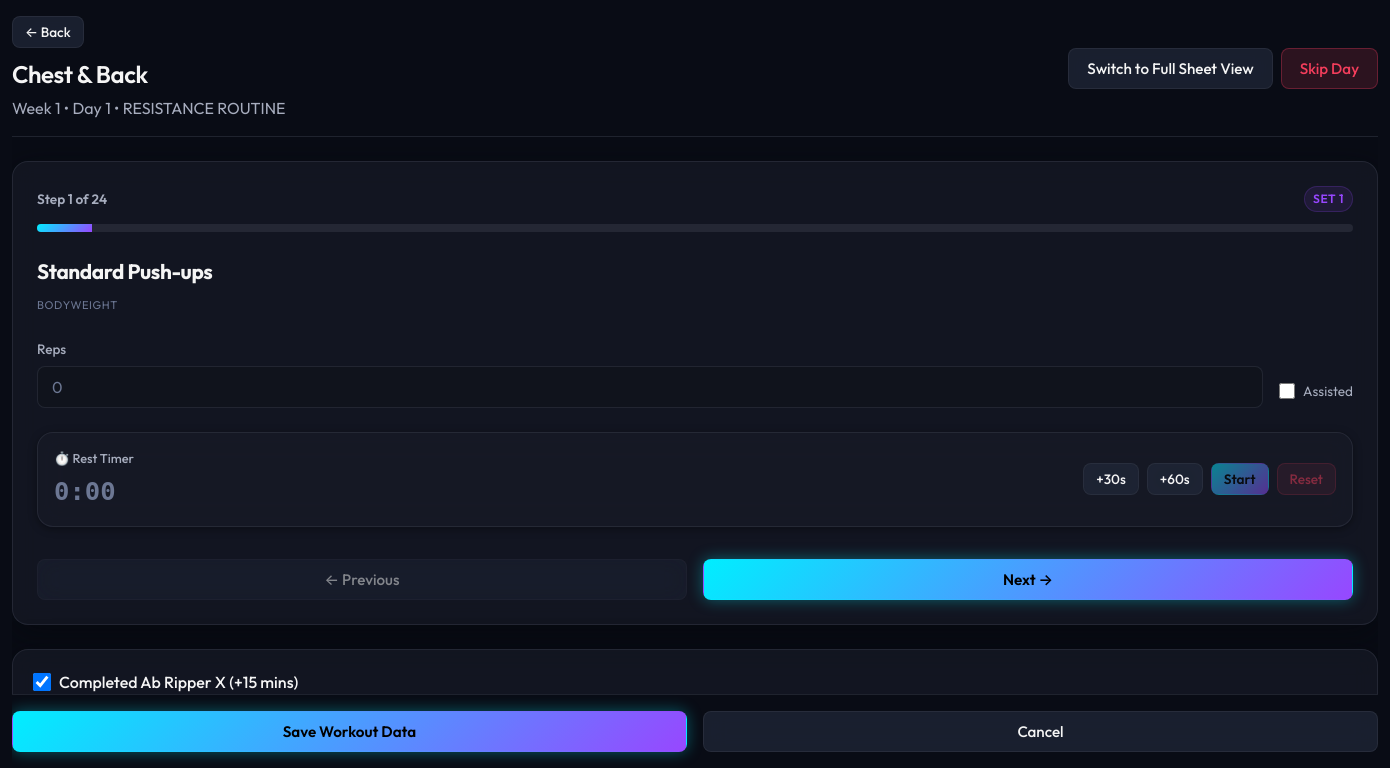
Test: WorkoutSession Component View Mode Defaults › should toggle view mode for resistance workout
The width and height of the screenshot is (1390, 768).
Switch to sheet
Click the button "Switch to Full Sheet View".
click(1171, 68)  # box x1=1068 y1=48 x2=1273 y2=88
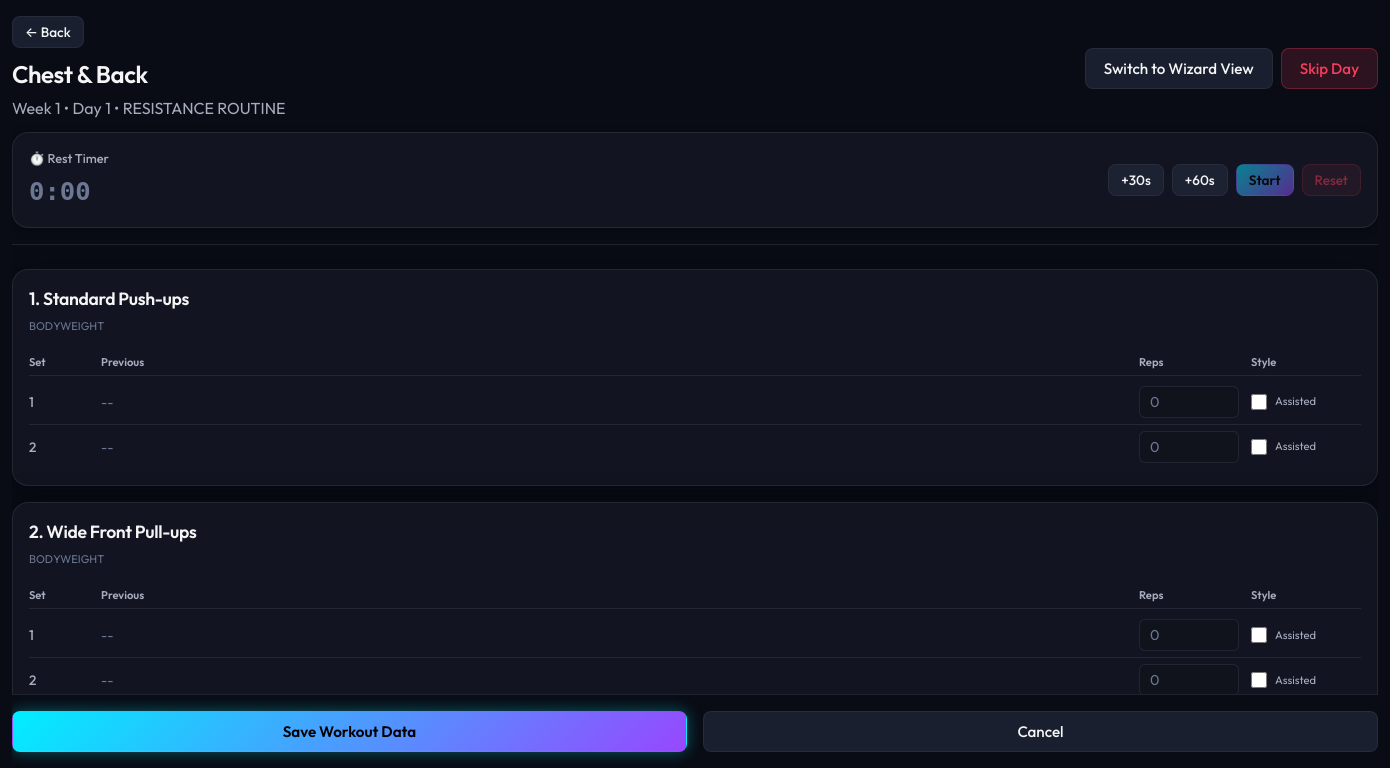
expect the button "Switch to Wizard View" is shown: met
Switch back to wizard
Click the button "Switch to Wizard View".
click(1179, 68)  # box x1=1085 y1=48 x2=1273 y2=88
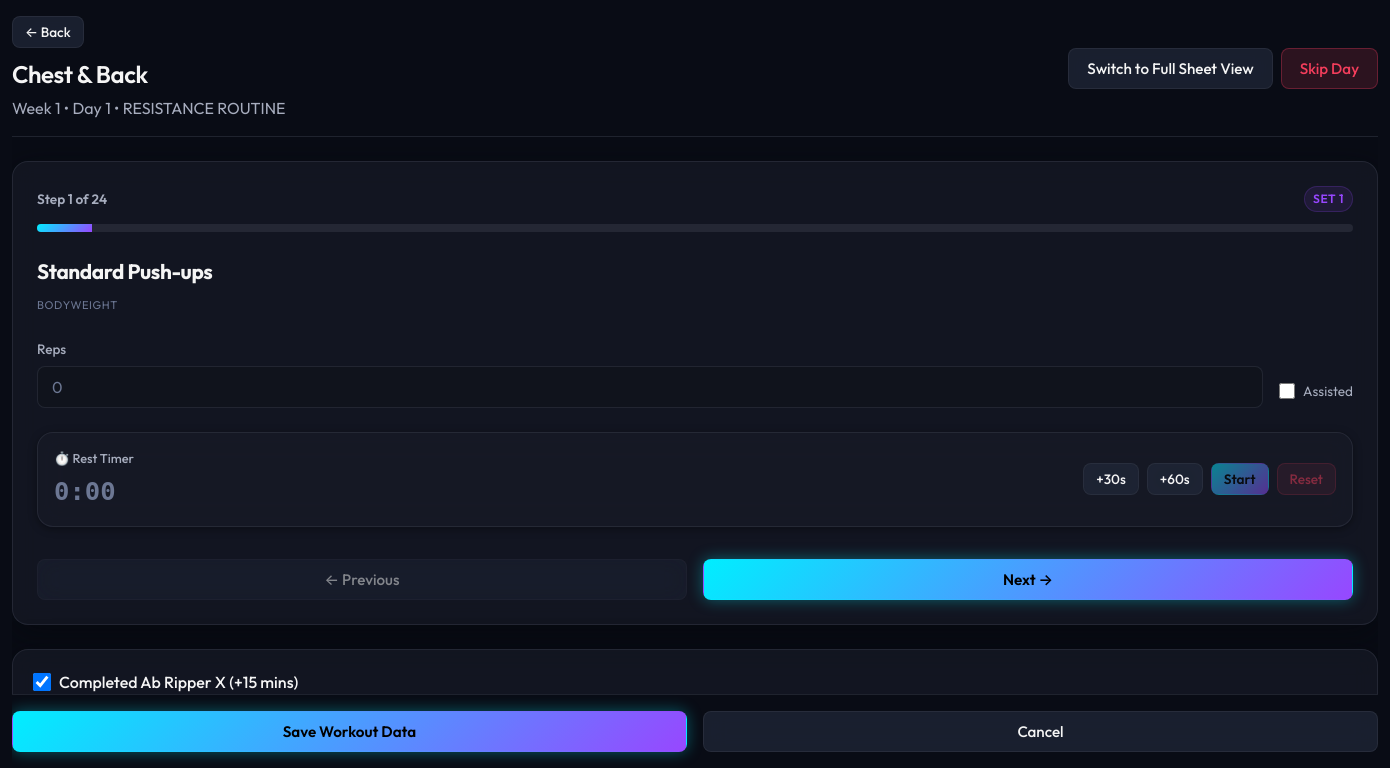
expect the button "Switch to Full Sheet View" is shown: met, box x1=1068 y1=48 x2=1273 y2=88
